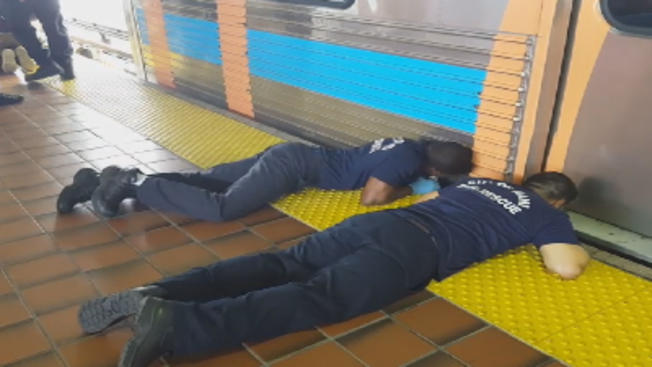collapsed: (80, 176, 595, 367), (35, 95, 482, 222)
